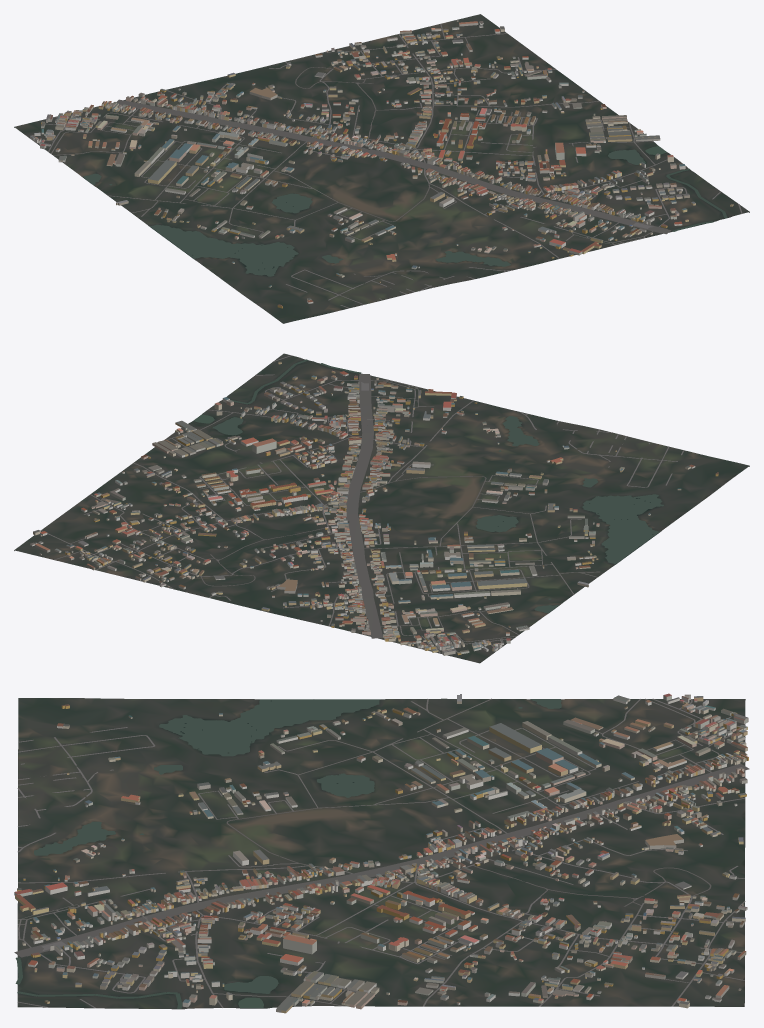
3 views of the same model, one above another, from view 1: azimuth 30°, elevation 25°; view 2: azimuth 150°, elevation 25°; view 3: azimuth 270°, elevation 25° (orthographic). The views are drawn at different scales.
Visible parts, largest first — view 1: ground, buildings, roads, water; view 2: ground, buildings, roads, water; view 3: ground, buildings, roads, water.
Boxes of the visible parts, x1,y1,x2,y2 form: ground: [14, 14, 749, 323]; buildings: [30, 20, 733, 308]; roads: [33, 23, 742, 308]; water: [83, 146, 727, 276]; ground: [14, 353, 749, 663]; buildings: [30, 361, 718, 655]; roads: [41, 355, 684, 653]; water: [193, 359, 663, 613]; ground: [17, 698, 745, 1009]; buildings: [14, 693, 748, 1013]; roads: [14, 698, 749, 1008]; water: [15, 699, 561, 1008].
Size of the model in its own units: 1436 by 31.22 by 1419.
